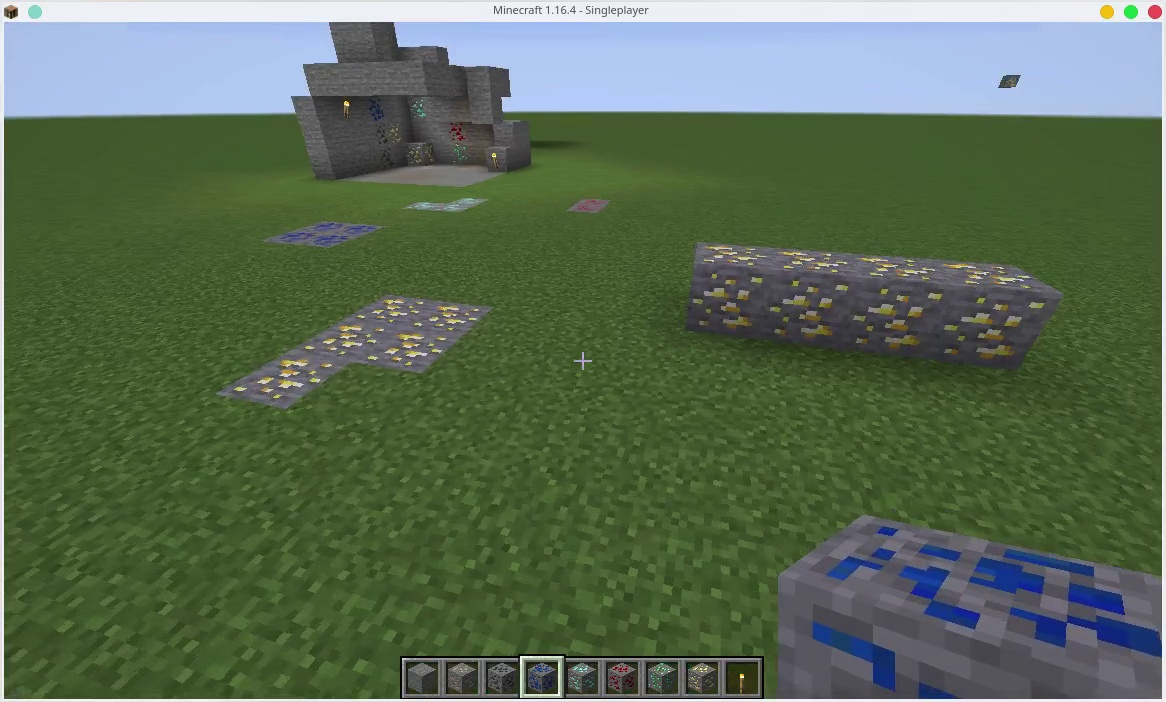gold: (948, 237, 1037, 369), (687, 231, 779, 343), (773, 236, 850, 349), (852, 259, 927, 354), (231, 353, 341, 411), (371, 332, 450, 375), (323, 316, 378, 363), (421, 292, 483, 329), (374, 290, 427, 331), (687, 666, 718, 695), (405, 142, 435, 165), (386, 130, 396, 150)
